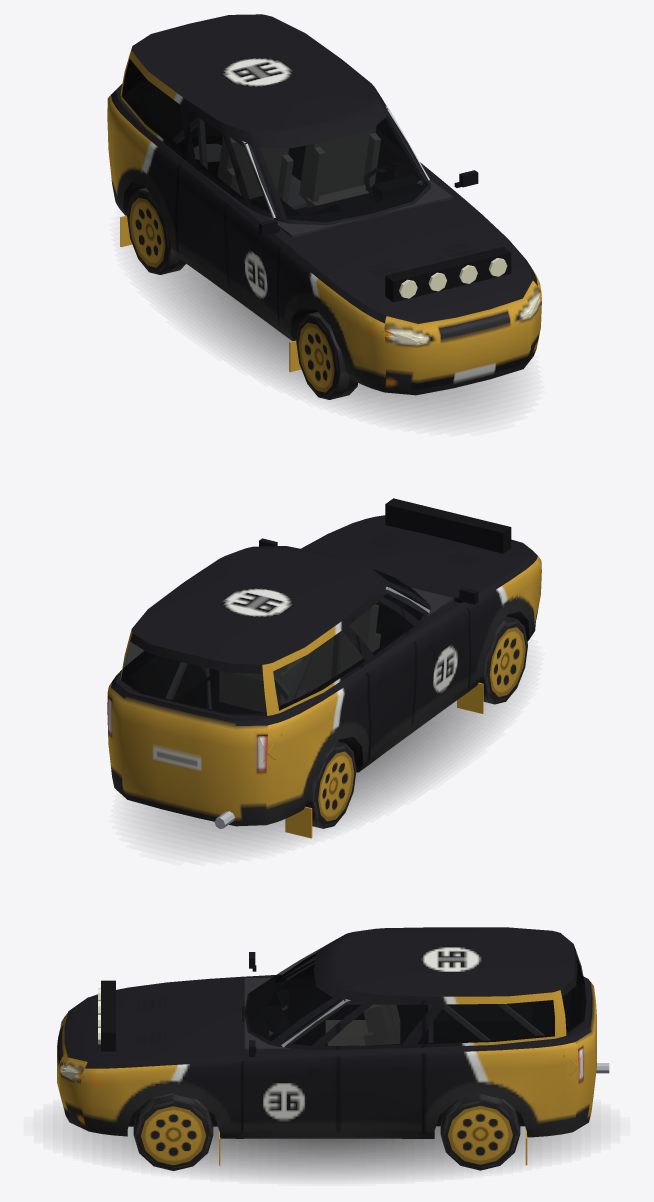
Rendered from rescaldo.glb.
The picture shows the model from 3 angles, top to bottom: view 1: azimuth 30°, elevation 25°; view 2: azimuth 150°, elevation 25°; view 3: azimuth 270°, elevation 25°; orthographic projection. The views are drawn at different scales.
Parts seen in each view (by area): view 1: Carroceria, Capo_malha, Interior, Sombra, Porta_TD_malha, Porta_D_malha, Roda_DD, Roda_TD, Farol; view 2: Carroceria, Tampa_malha, Capo_malha, Sombra, Interior, Porta_TD_malha, Porta_D_malha, Roda_TD, Roda_DD; view 3: Carroceria, Sombra, Interior, Capo_malha, Porta_TE_malha, Porta_E_malha, Roda_DE, Roda_TE, Tampa_malha.
Part boxes in pixels (x1=…): Carroceria: x1=107, y1=14, x2=541, y2=395; Capo_malha: x1=298, y1=206, x2=537, y2=323; Interior: x1=125, y1=81, x2=452, y2=311; Sombra: x1=140, y1=264, x2=519, y2=421; Porta_TD_malha: x1=176, y1=105, x2=253, y2=286; Porta_D_malha: x1=225, y1=145, x2=283, y2=325; Roda_DD: x1=296, y1=312, x2=357, y2=399; Roda_TD: x1=127, y1=187, x2=185, y2=274; Farol: x1=382, y1=292, x2=541, y2=344; Carroceria: x1=107, y1=522, x2=541, y2=838; Tampa_malha: x1=113, y1=633, x2=267, y2=806; Capo_malha: x1=307, y1=498, x2=537, y2=593; Sombra: x1=134, y1=693, x2=513, y2=850; Interior: x1=123, y1=584, x2=452, y2=712; Porta_TD_malha: x1=352, y1=579, x2=416, y2=759; Porta_D_malha: x1=387, y1=583, x2=478, y2=724; Roda_TD: x1=305, y1=741, x2=356, y2=828; Roda_DD: x1=478, y1=616, x2=527, y2=704; Carroceria: x1=57, y1=927, x2=609, y2=1165; Sombra: x1=63, y1=1115, x2=590, y2=1178; Interior: x1=244, y1=957, x2=582, y2=1050; Capo_malha: x1=69, y1=980, x2=227, y2=1068; Porta_TE_malha: x1=338, y1=990, x2=423, y2=1132; Porta_E_malha: x1=242, y1=998, x2=338, y2=1132; Roda_DE: x1=133, y1=1093, x2=213, y2=1170; Roda_TE: x1=440, y1=1093, x2=520, y2=1170; Tampa_malha: x1=560, y1=944, x2=596, y2=1110.
Bounding box in the file's own units: 2.36 × 1.53 × 5.1.
14 materials, 5 textured.
